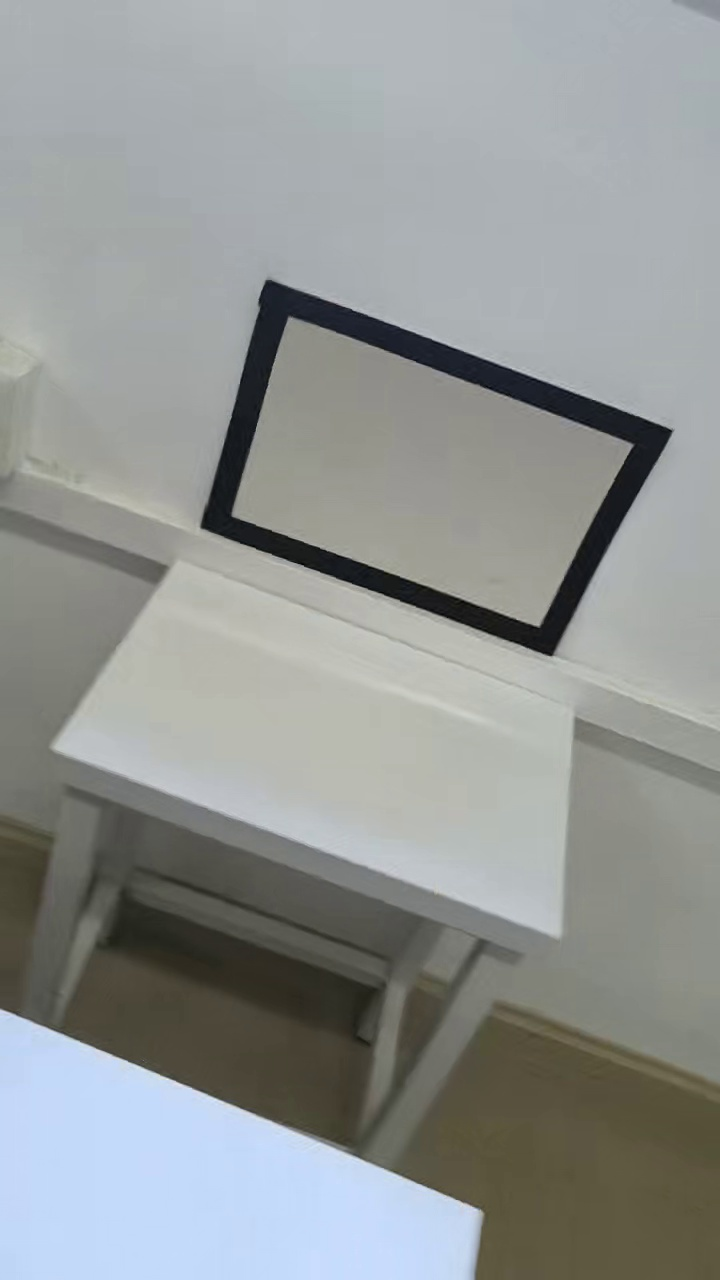board: (200, 281, 669, 656)
